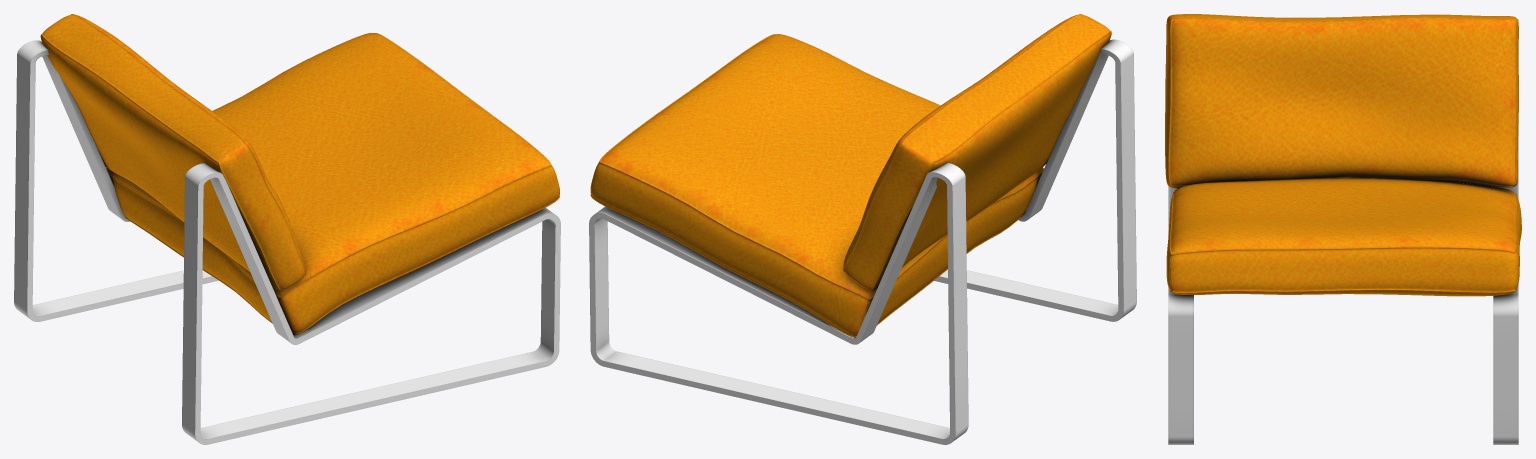
File: armchair.gltf
3 renders of one model, left to right at view 1: azimuth 30°, elevation 25°; view 2: azimuth 150°, elevation 25°; view 3: azimuth 270°, elevation 25°, orthographic. The views are drawn at different scales.
Parts seen in each view (by area): view 1: Seat_LP, Sides_LP, Back_LP; view 2: Seat_LP, Sides_LP, Back_LP; view 3: Back_LP, Seat_LP, Sides_LP.
Part boxes in pixels (x1,y1,x2,y2): Seat_LP: (106,33,559,334); Sides_LP: (14,40,560,444); Back_LP: (40,14,305,290); Seat_LP: (590,34,1043,337); Sides_LP: (589,39,1136,444); Back_LP: (843,14,1111,291); Back_LP: (1165,14,1518,188); Seat_LP: (1166,178,1521,296); Sides_LP: (1168,19,1518,444).
Size of the model in its own units: 112 by 85.55 by 96.34.
2 materials, 2 textured.
